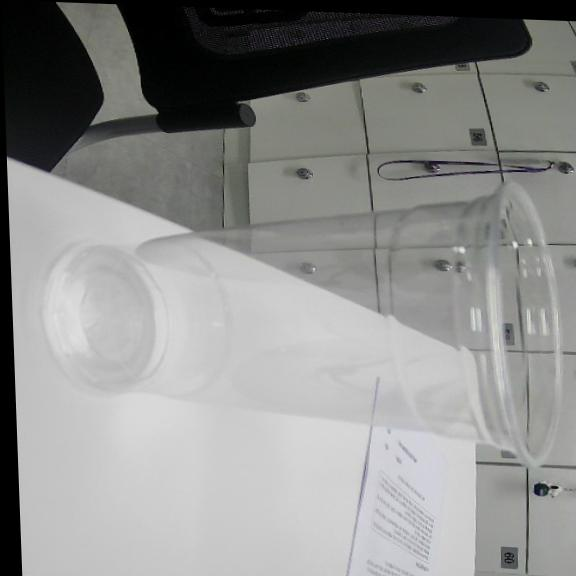Plastik: (44, 183, 561, 467)
